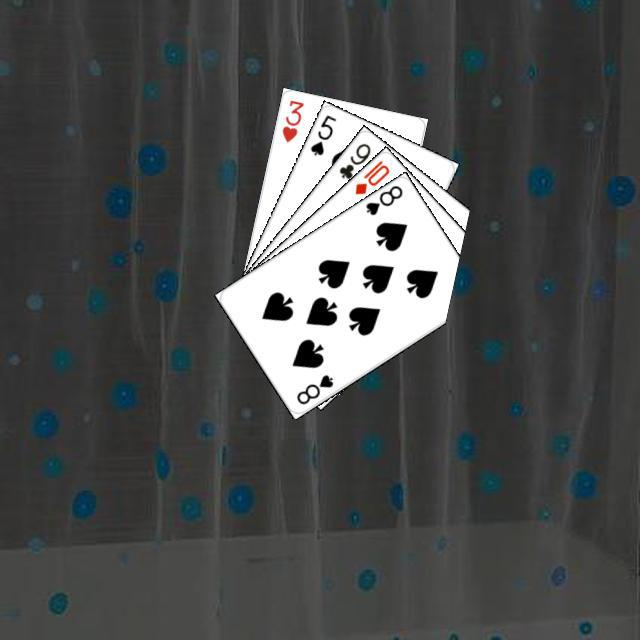10d: (350, 155, 391, 196)
3h: (277, 95, 305, 144)
5s: (305, 110, 338, 157)
8s: (291, 369, 335, 406), (361, 180, 404, 217)
9c: (334, 138, 373, 181)
